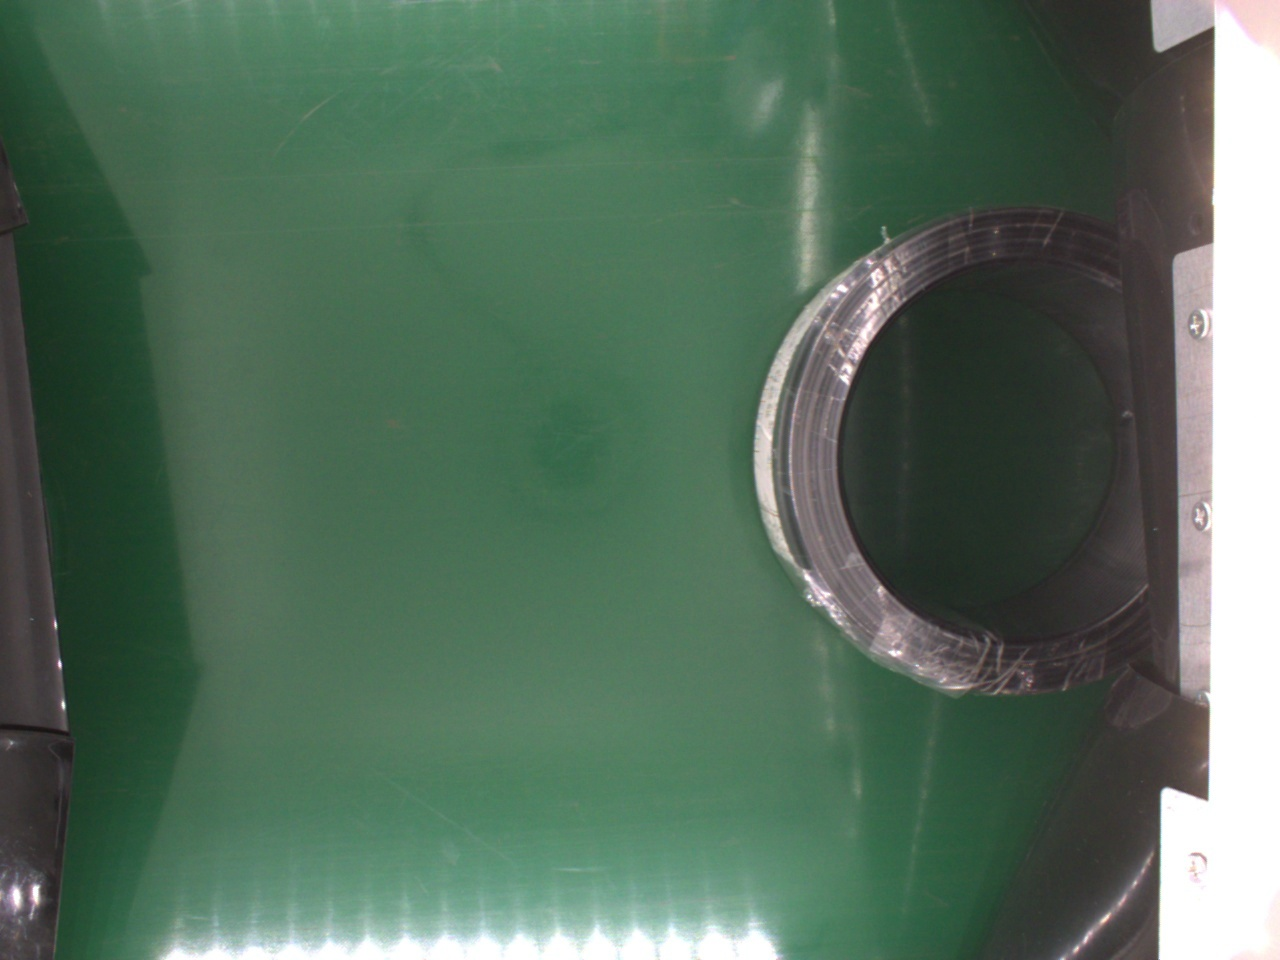black: (755, 205, 1156, 696)
